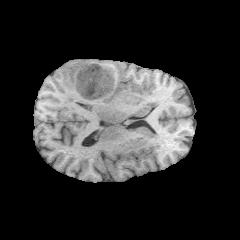glioma: (62, 65, 131, 105)
